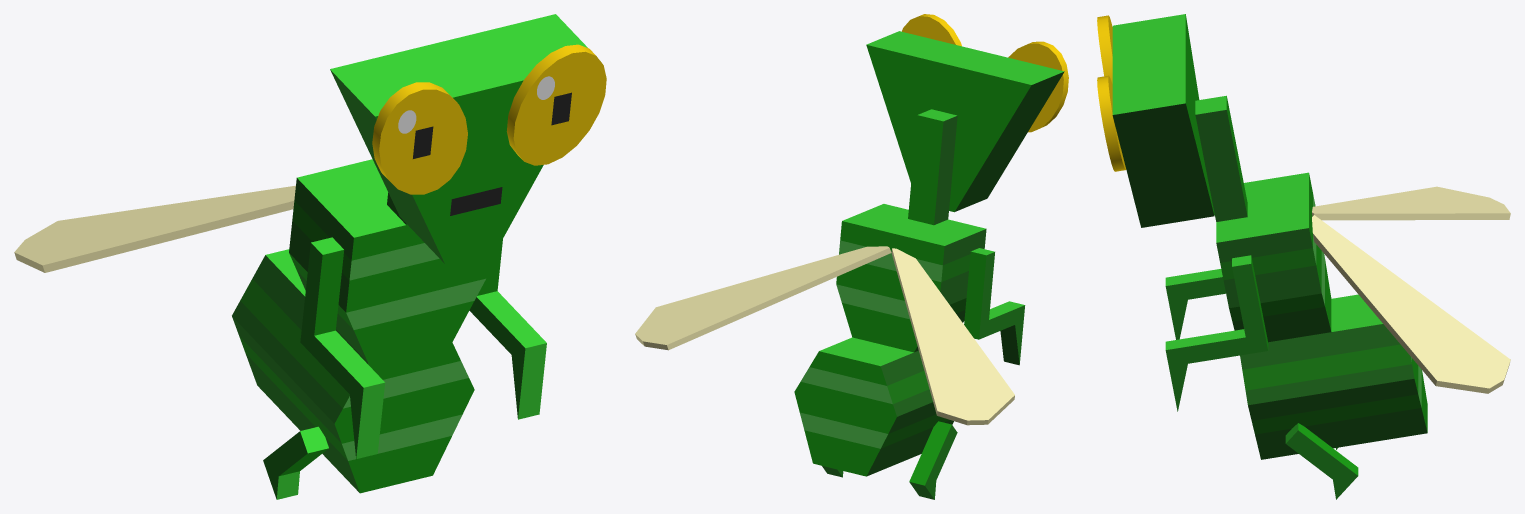
The picture shows the model from 3 angles, left to right: view 1: azimuth 30°, elevation 25°; view 2: azimuth 150°, elevation 25°; view 3: azimuth 270°, elevation 25°; orthographic projection. The views are drawn at different scales.
Parts seen in each view (by area): view 1: Ch_207_Head, Ch_207, Ch_207_Chest, Ch_207_Wing_R, Ch_207_Arm_L, Ch_207_Arm_R, Ch_207_Leg_L, Ch_207_Eye_01; view 2: Ch_207_Head, Ch_207, Ch_207_Chest, Ch_207_Wing_R, Ch_207_Wing_L, Ch_207_Arm_L, Ch_207_Leg_L; view 3: Ch_207_Head, Ch_207, Ch_207_Chest, Ch_207_Wing_L, Ch_207_Wing_R, Ch_207_Arm_R, Ch_207_Leg_R, Ch_207_Arm_L.
Part boxes in pixels (<box>): Ch_207_Head: <box>330,14,606,264</box>; Ch_207: <box>232,249,474,493</box>; Ch_207_Chest: <box>289,159,488,362</box>; Ch_207_Wing_R: <box>14,185,295,272</box>; Ch_207_Arm_L: <box>300,237,385,458</box>; Ch_207_Arm_R: <box>469,239,546,419</box>; Ch_207_Leg_L: <box>263,426,328,499</box>; Ch_207_Eye_01: <box>413,92,571,158</box>; Ch_207_Head: <box>866,14,1068,225</box>; Ch_207: <box>794,337,953,476</box>; Ch_207_Chest: <box>836,204,986,352</box>; Ch_207_Wing_R: <box>891,248,1014,425</box>; Ch_207_Wing_L: <box>635,246,891,350</box>; Ch_207_Arm_L: <box>964,248,1025,365</box>; Ch_207_Leg_L: <box>909,421,957,499</box>; Ch_207_Head: <box>1097,14,1247,227</box>; Ch_207: <box>1240,294,1427,459</box>; Ch_207_Chest: <box>1216,172,1331,342</box>; Ch_207_Wing_L: <box>1312,215,1510,393</box>; Ch_207_Wing_R: <box>1312,186,1510,220</box>; Ch_207_Arm_R: <box>1165,255,1268,411</box>; Ch_207_Leg_R: <box>1285,423,1358,499</box>; Ch_207_Arm_L: <box>1165,269,1225,339</box>.
Size of the model in its own units: 9.61 by 9.74 by 8.65.
